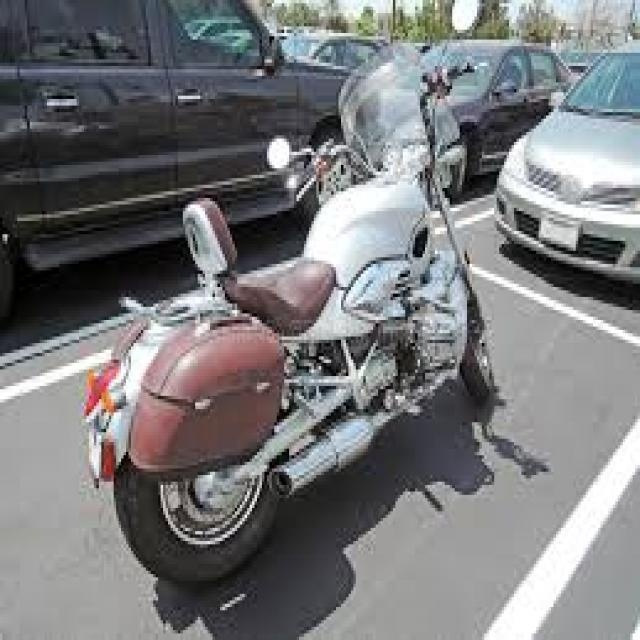Car: (1, 0, 350, 275), (496, 41, 640, 287), (434, 10, 568, 198)
